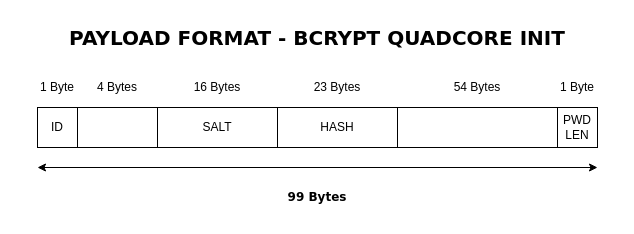
Some shapes in this 634 by 234 pixel diagram are drawn without their labels. Each missing label, with the centre of its shape:
CRACK MAX: pixel 117 127
PWD COUNTER INIT: pixel 477 127
